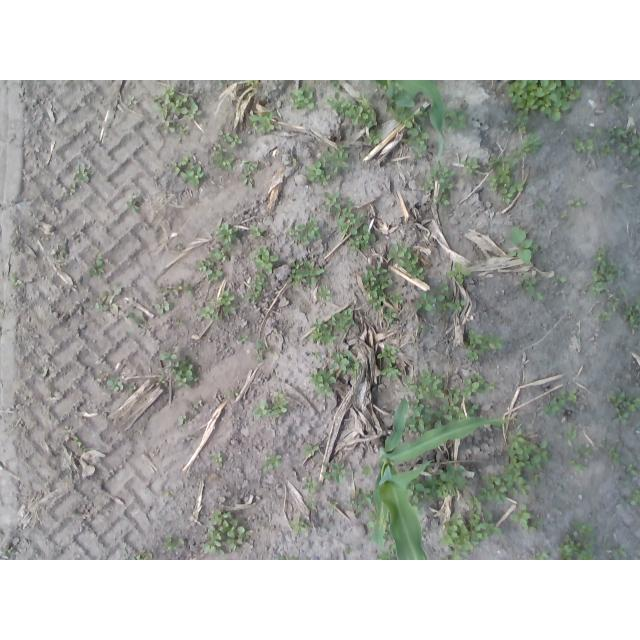Maize: (375, 394, 510, 560), (377, 80, 445, 164)
Weeds: (481, 429, 547, 503), (441, 488, 502, 560), (507, 80, 581, 120), (202, 509, 247, 557), (323, 94, 377, 127), (359, 262, 394, 311), (160, 345, 199, 387), (389, 244, 424, 281), (346, 211, 378, 250), (154, 94, 199, 120), (508, 227, 532, 266), (286, 219, 322, 244), (425, 163, 455, 192), (418, 368, 445, 399), (309, 369, 336, 397), (253, 245, 280, 273), (309, 319, 337, 345), (591, 262, 625, 283), (462, 372, 487, 399), (334, 205, 359, 232), (324, 145, 348, 173), (440, 465, 468, 488), (245, 273, 267, 302), (544, 390, 567, 417), (404, 126, 428, 151), (291, 84, 315, 109), (376, 342, 400, 367), (181, 162, 204, 187), (348, 488, 371, 513), (102, 287, 124, 313), (269, 392, 291, 417), (560, 533, 580, 560), (446, 264, 471, 285), (615, 391, 640, 412), (622, 304, 640, 333), (509, 503, 531, 525), (251, 113, 276, 132), (254, 339, 275, 361), (217, 224, 239, 245), (336, 308, 355, 332), (488, 150, 521, 163), (410, 483, 431, 503), (482, 333, 504, 352), (415, 293, 437, 312), (300, 260, 325, 276), (446, 111, 467, 130), (521, 131, 539, 153), (74, 163, 96, 181), (303, 162, 321, 182), (333, 351, 349, 373), (436, 405, 452, 427), (323, 191, 341, 210), (254, 398, 271, 418), (461, 157, 479, 175), (607, 87, 625, 105), (571, 521, 594, 535), (197, 307, 220, 321), (157, 282, 183, 294), (331, 461, 345, 483), (398, 108, 414, 127), (468, 329, 484, 348), (521, 274, 536, 294), (380, 366, 401, 379), (88, 260, 104, 277), (218, 290, 234, 307), (365, 130, 383, 145), (608, 126, 623, 144), (213, 248, 231, 263), (497, 165, 511, 184), (593, 244, 607, 263), (290, 518, 307, 533), (387, 107, 406, 120), (628, 136, 640, 156), (301, 477, 317, 492), (267, 452, 282, 468), (407, 412, 423, 427), (607, 295, 621, 312), (316, 285, 331, 300), (436, 189, 450, 205), (597, 310, 614, 323), (422, 405, 434, 423), (449, 299, 468, 310), (241, 170, 254, 186), (613, 412, 629, 425), (126, 313, 142, 326), (198, 260, 214, 273), (302, 444, 319, 456), (96, 291, 107, 309), (593, 282, 608, 295), (390, 291, 403, 306), (290, 259, 303, 274), (612, 548, 628, 560), (290, 273, 306, 285), (622, 125, 635, 139), (384, 308, 397, 322), (155, 302, 169, 315), (567, 198, 586, 207), (321, 463, 331, 480), (572, 138, 584, 152), (435, 486, 449, 498), (164, 536, 176, 550), (448, 397, 460, 411), (509, 181, 524, 192), (321, 170, 331, 186), (242, 161, 258, 171), (609, 447, 619, 463), (467, 404, 480, 416), (164, 122, 177, 134), (222, 157, 235, 169), (348, 362, 360, 375), (213, 153, 224, 167), (571, 460, 585, 471), (580, 549, 594, 560), (108, 381, 122, 392), (209, 269, 223, 280), (502, 189, 512, 204), (425, 477, 440, 487), (447, 388, 462, 398), (231, 134, 242, 147), (468, 349, 481, 360), (535, 550, 549, 560), (410, 400, 424, 410), (376, 553, 395, 560), (553, 274, 565, 285), (568, 388, 579, 400), (185, 285, 197, 296), (126, 201, 139, 211), (362, 464, 372, 477), (407, 380, 417, 393), (487, 175, 498, 186), (223, 306, 234, 317), (454, 411, 466, 421), (438, 301, 450, 311), (600, 147, 613, 156), (177, 156, 187, 167), (126, 95, 136, 106), (221, 133, 231, 144), (605, 80, 616, 90), (584, 539, 595, 549), (212, 453, 223, 463), (485, 380, 496, 390), (251, 227, 262, 237), (439, 281, 449, 292), (260, 460, 269, 472), (512, 119, 525, 127), (516, 111, 529, 119), (617, 143, 627, 153), (606, 391, 616, 401), (414, 503, 424, 513), (164, 86, 175, 95), (215, 144, 226, 153), (628, 463, 637, 474), (226, 390, 238, 398), (136, 553, 149, 560), (617, 288, 627, 297), (532, 518, 542, 527), (630, 156, 640, 165), (11, 278, 22, 286), (281, 556, 302, 560), (419, 107, 428, 116), (1, 545, 10, 554), (329, 80, 339, 88), (170, 161, 178, 171), (568, 429, 576, 439), (75, 437, 82, 448), (634, 490, 640, 502), (314, 352, 322, 361), (533, 243, 540, 253), (177, 539, 187, 546), (179, 417, 186, 427), (329, 315, 336, 325), (437, 295, 447, 302), (587, 137, 593, 148), (239, 335, 250, 341), (305, 499, 314, 506), (309, 276, 316, 285), (129, 384, 136, 393), (581, 284, 588, 292), (561, 210, 567, 219), (537, 294, 544, 301), (346, 547, 353, 554), (390, 545, 397, 552), (537, 198, 543, 206), (595, 128, 603, 134), (524, 526, 536, 530), (327, 507, 333, 515), (174, 319, 182, 325), (247, 81, 254, 87), (583, 449, 590, 455), (417, 149, 422, 157), (71, 183, 77, 189), (615, 197, 621, 203), (520, 127, 525, 134), (534, 496, 539, 503), (163, 492, 170, 497), (577, 453, 582, 459), (184, 126, 189, 131)
